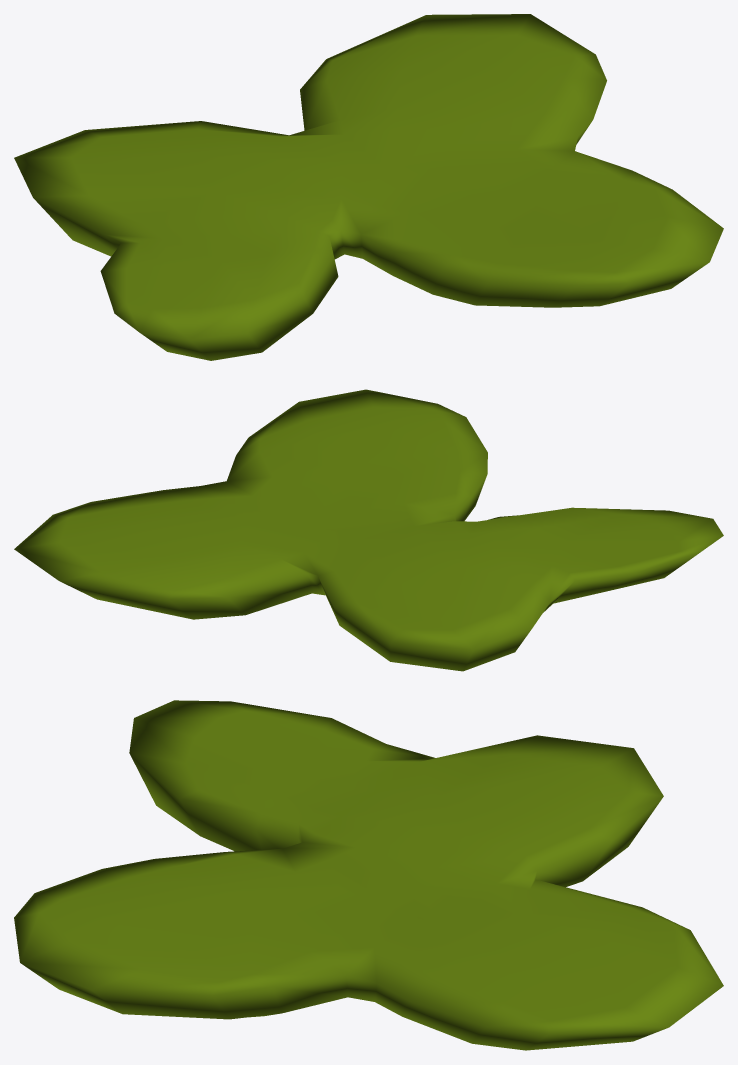
The model's file is ducksweed_final.fbx.
3 renders of one model, top to bottom at view 1: azimuth 30°, elevation 25°; view 2: azimuth 150°, elevation 25°; view 3: azimuth 270°, elevation 25°, orthographic. The views are drawn at different scales.
Visible parts, largest first — view 1: Lemna Gibda; view 2: Lemna Gibda; view 3: Lemna Gibda.
Boxes of the visible parts, x1=… form: Lemna Gibda: x1=14, y1=14, x2=723, y2=360; Lemna Gibda: x1=14, y1=389, x2=723, y2=671; Lemna Gibda: x1=14, y1=700, x2=723, y2=1050.
Size of the model in its own units: 17.29 by 1.9 by 15.62.
